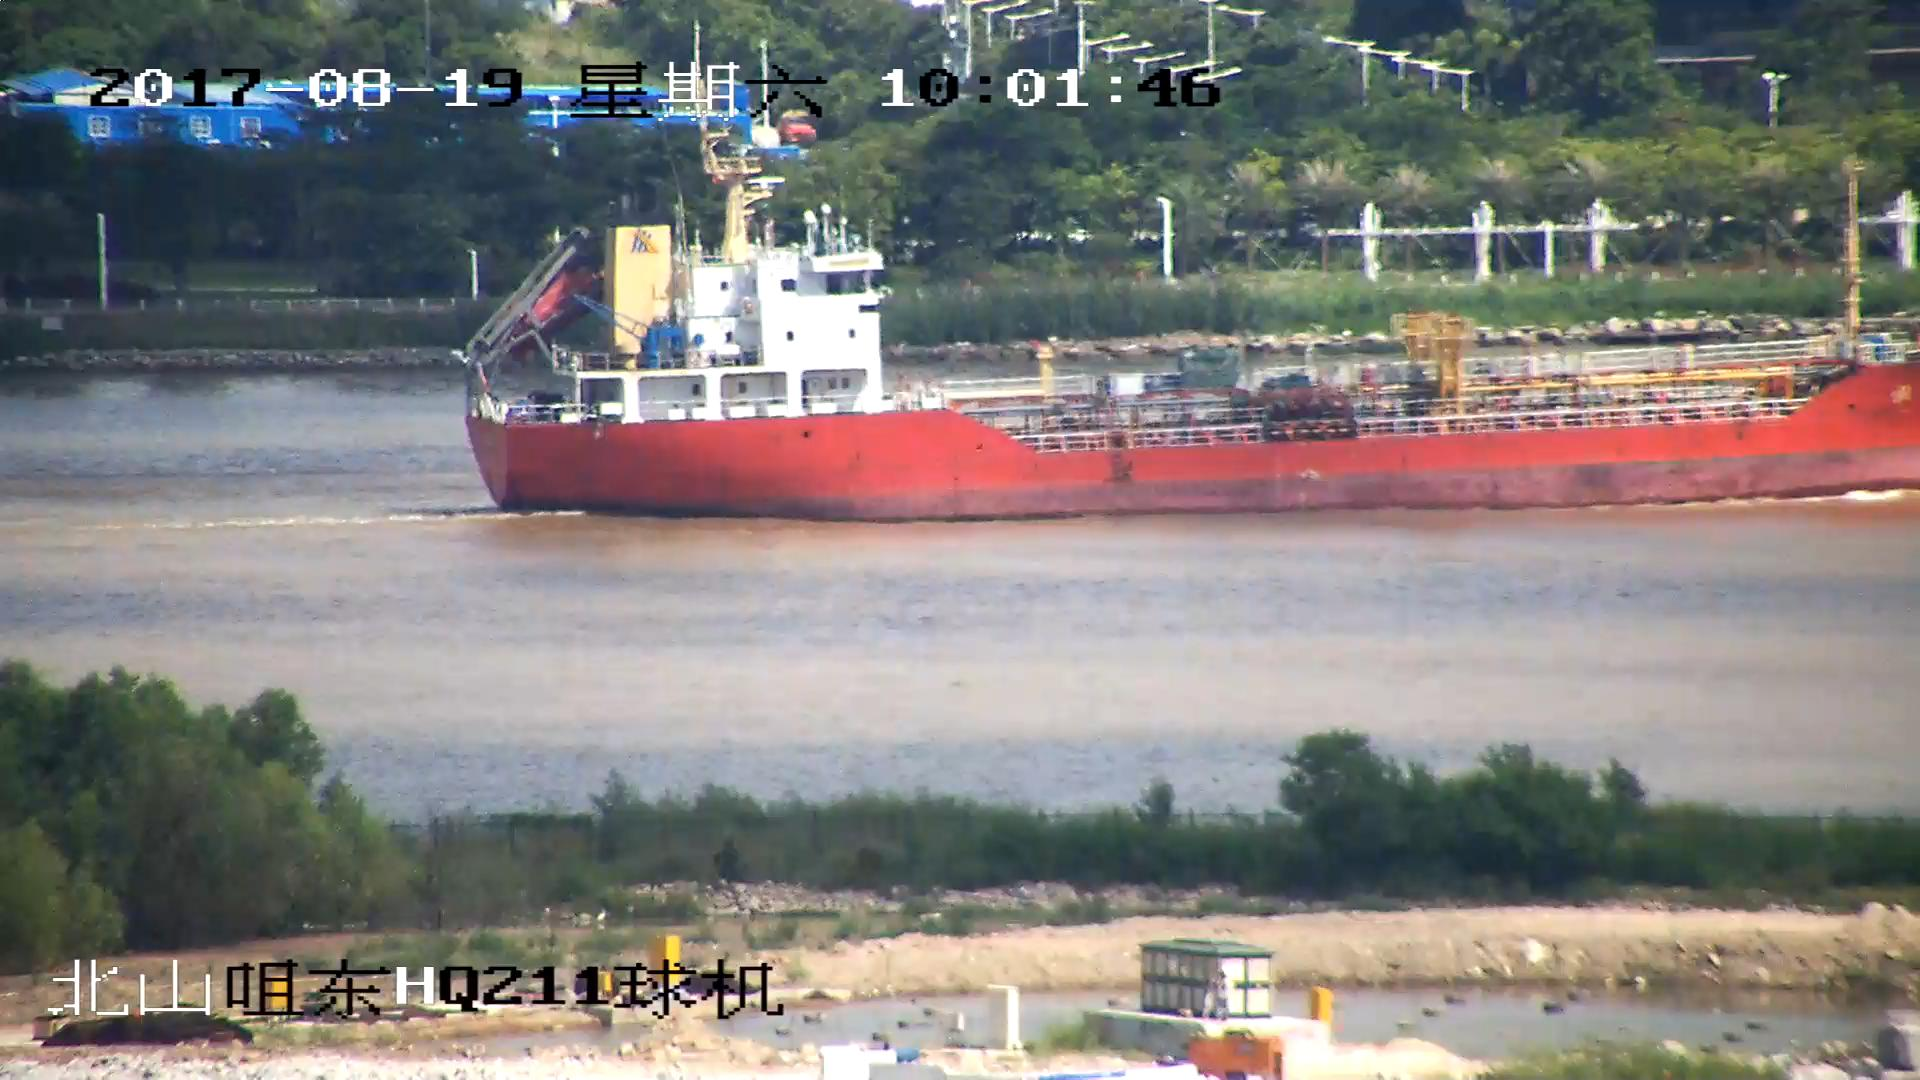general cargo ship: (466, 117, 1920, 522)
